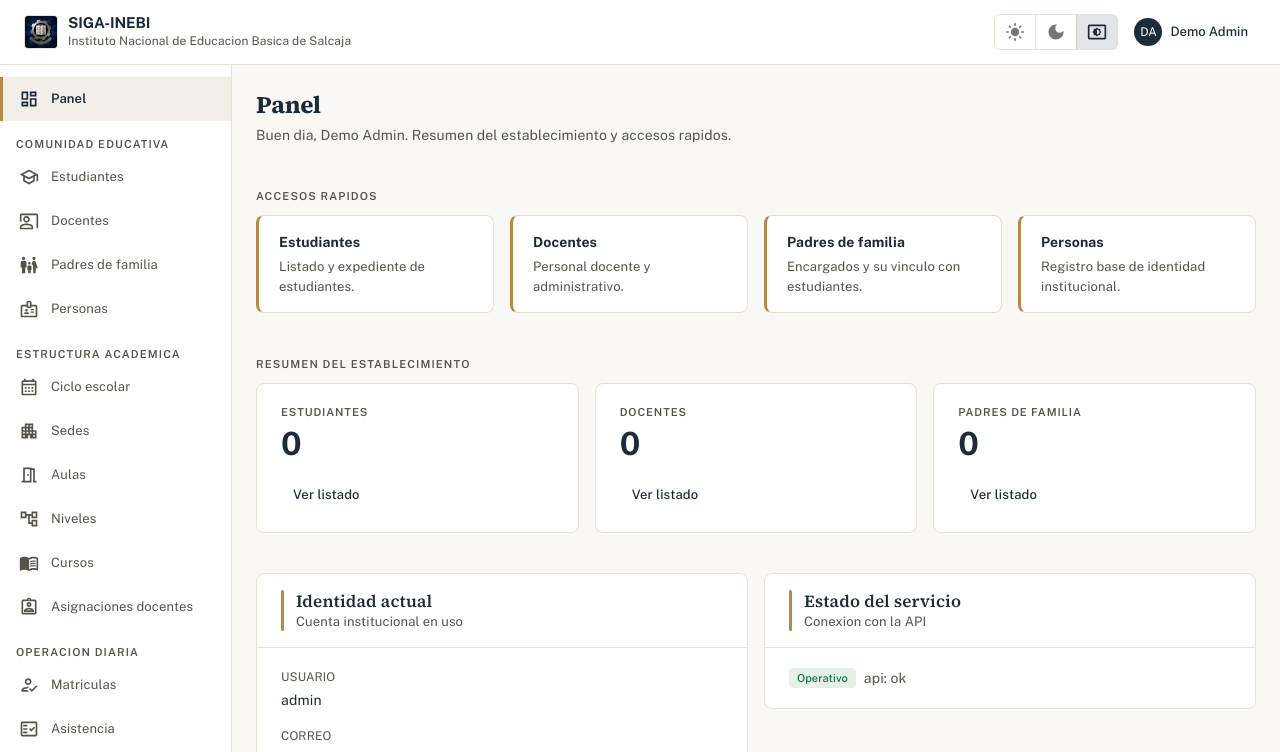
navegacion de modulos › navega desde el panel hasta la pantalla de sedes
Click the link "Sedes". click: [54, 431]
box: top-left (19, 421), bottom-right (90, 441)
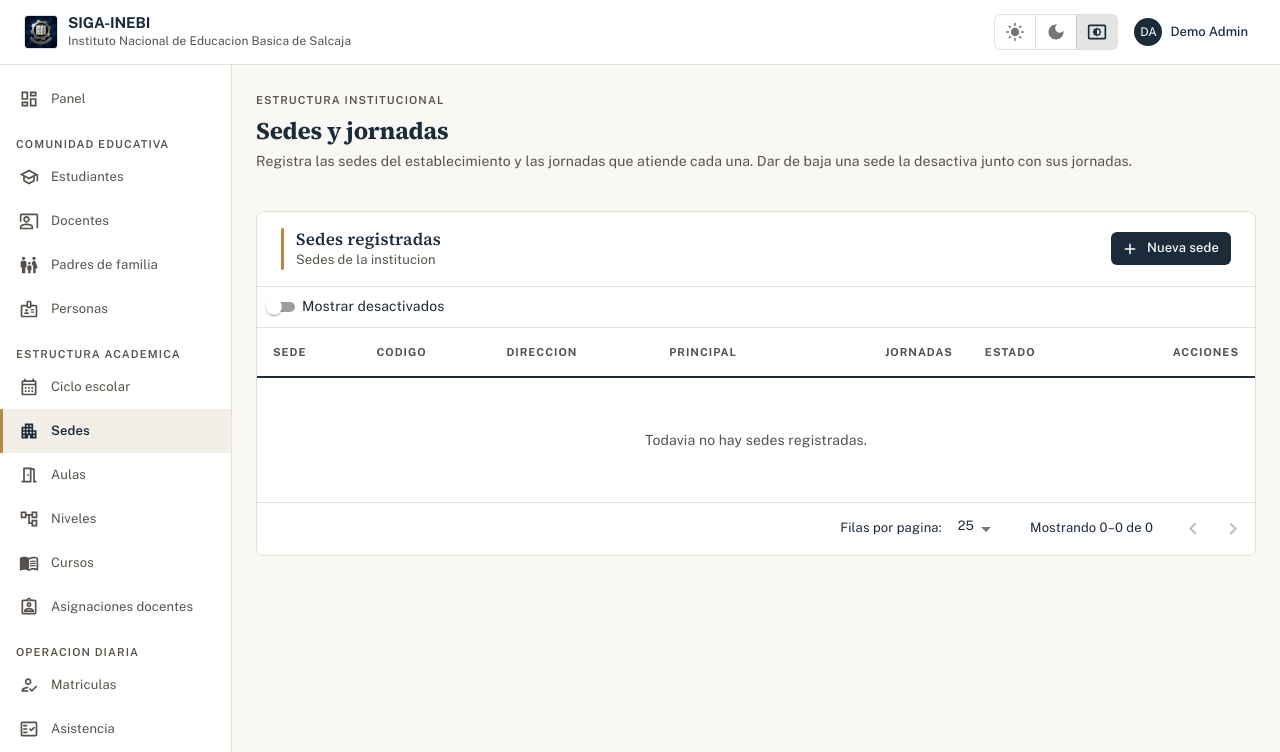
Expected: the heading "Sedes y jornadas" is shown, top-left (256, 114), bottom-right (448, 147)
